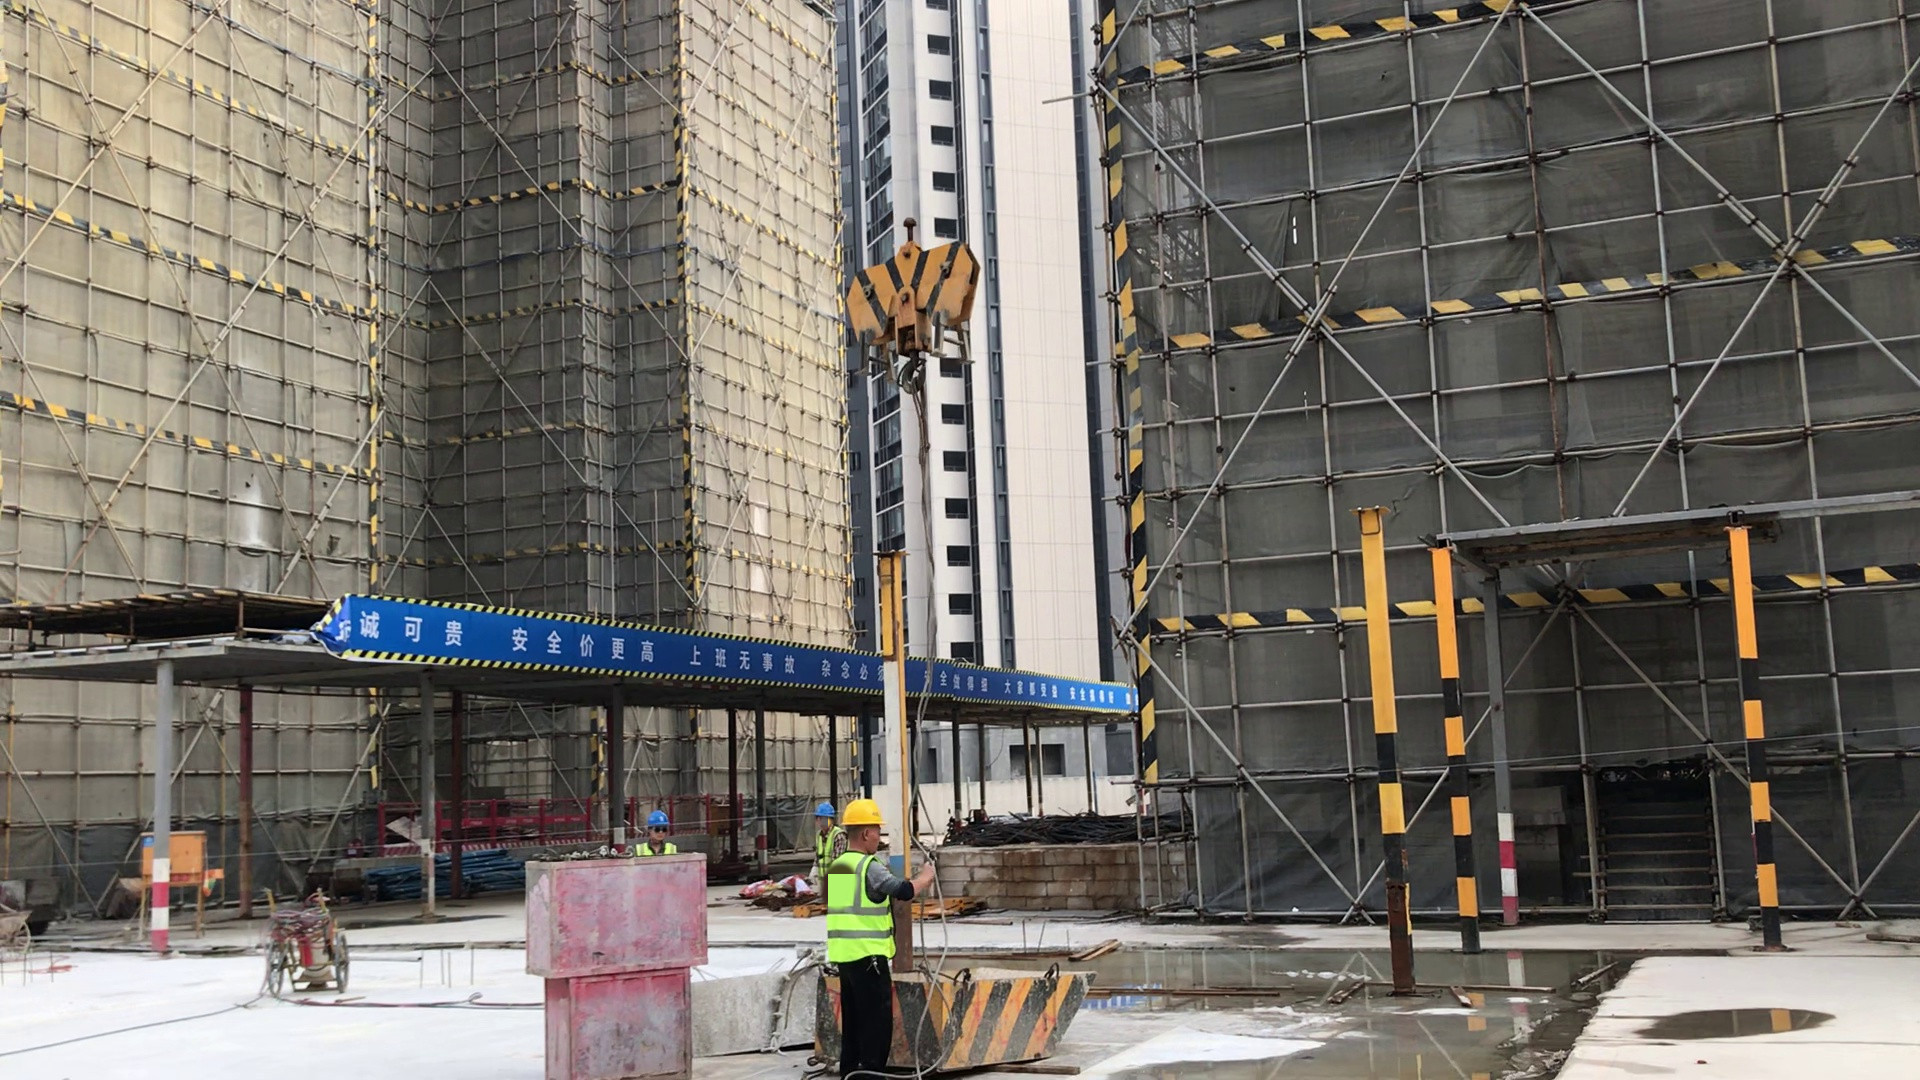brick: (931, 842, 1183, 913)
ebox: (138, 828, 211, 878)
fence: (379, 794, 742, 858)
helmet: (841, 803, 889, 826), (644, 811, 670, 827), (813, 802, 837, 819)
hook: (839, 219, 979, 365)
hopper: (804, 965, 1090, 1070)
person: (812, 802, 930, 1078), (804, 800, 847, 910), (632, 812, 682, 861)
slogan: (337, 572, 1134, 712)
vest: (827, 855, 897, 962), (814, 833, 841, 873), (634, 845, 676, 858)
